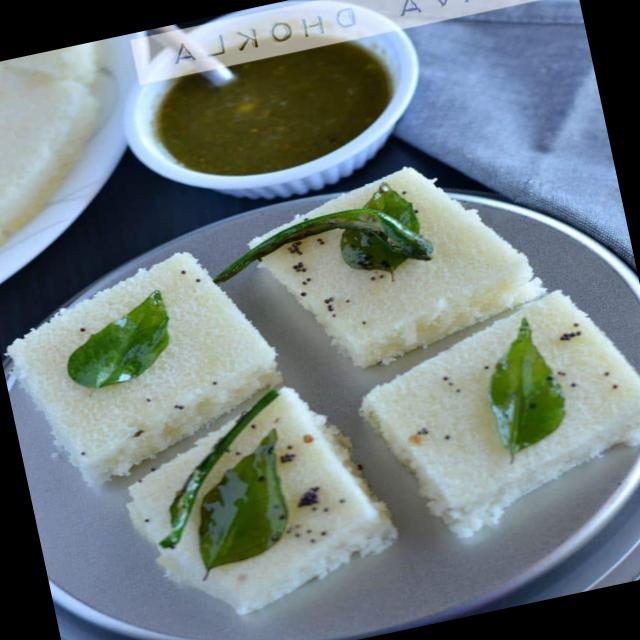dhokla: (0, 136, 640, 640)
